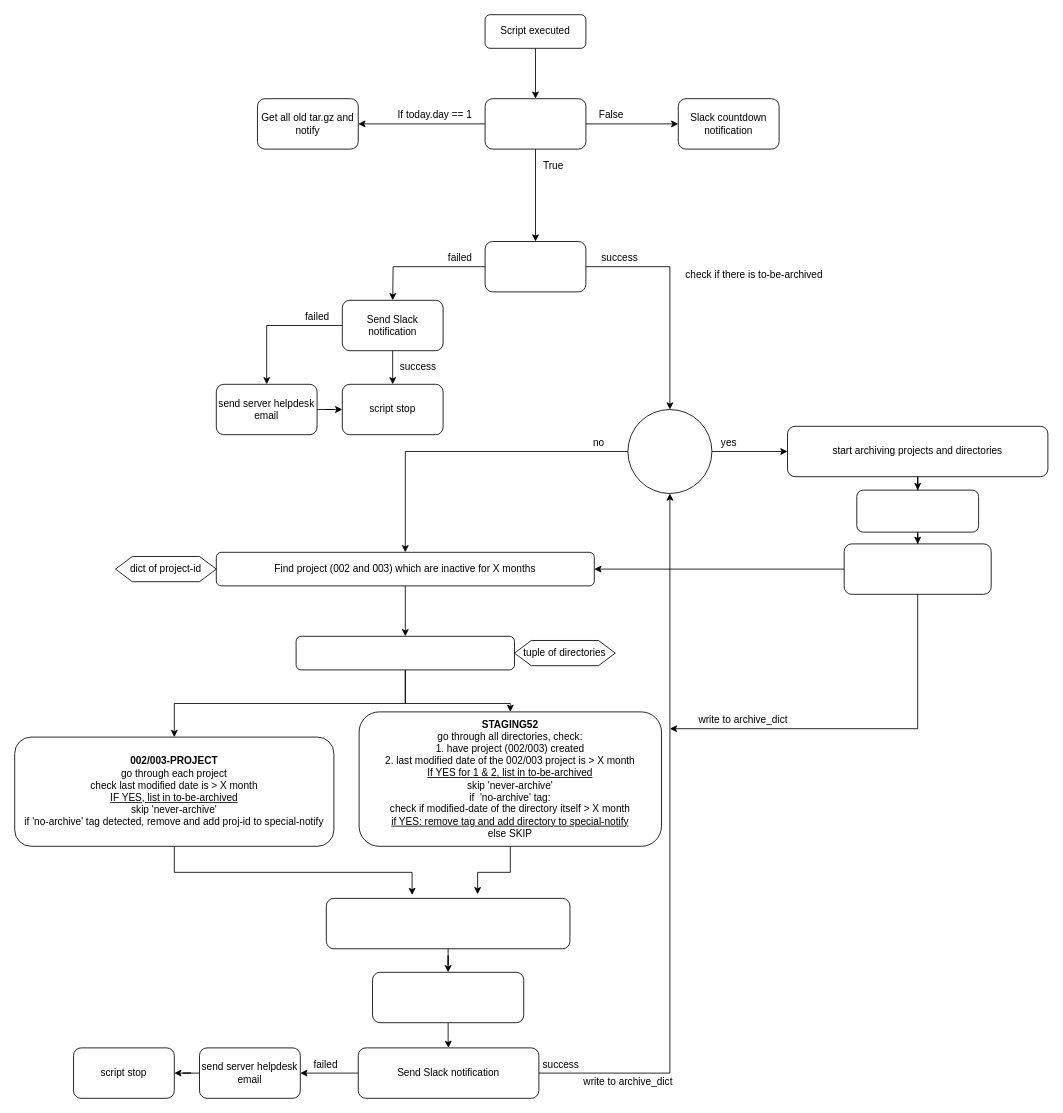
The diagram is 1063 pixels wide and 1113 high, and some of its shapes have lost their labels. Each missing label, with the centre of its shape:
archive_dict (pickle): (669,451)
check dx_login: (535,266)
Check if today.day is 1 or 15: (535,123)
Compile all qualified to-be-archived: (448,923)
empty to-be-archive list: (917,568)
generate archived.txt: (917,510)
Get all directories in staging52: (404,652)
Get latest tag status: (448,997)
